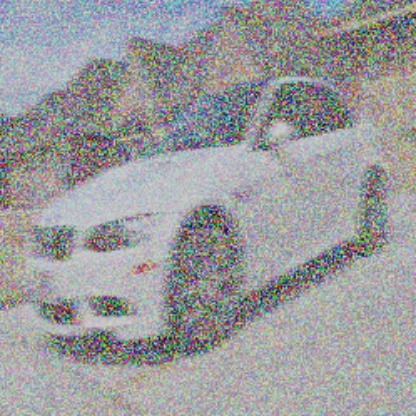Vehicle: (24, 76, 393, 358)
